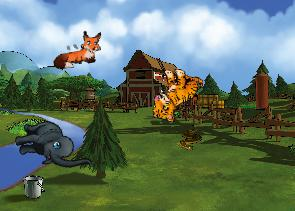elephant: (11, 111, 92, 182)
fox: (49, 28, 106, 71)
tiger: (149, 64, 204, 126)
